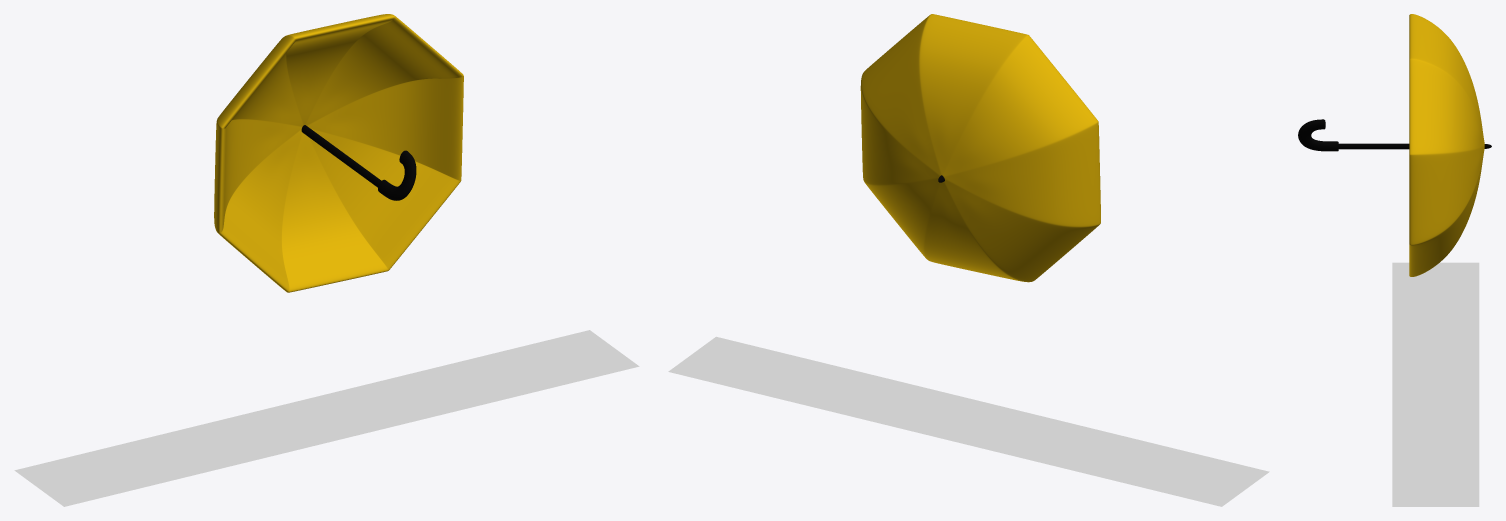
The model's file is yellow.fbx.
3 views of the same model, side by side, from view 1: azimuth 30°, elevation 25°; view 2: azimuth 150°, elevation 25°; view 3: azimuth 270°, elevation 25° (orthographic). The views are drawn at different scales.
Visible parts, largest first — view 1: handle, Plane; view 2: handle, Plane; view 3: Plane, handle.
Boxes of the visible parts, x1,y1,x2,y2 form: handle: [214, 14, 463, 292]; Plane: [14, 330, 639, 506]; handle: [860, 14, 1100, 282]; Plane: [668, 336, 1269, 506]; Plane: [1392, 262, 1479, 506]; handle: [1298, 14, 1491, 276].
Bounding box in the file's own units: 4014 × 2687 × 1345.
